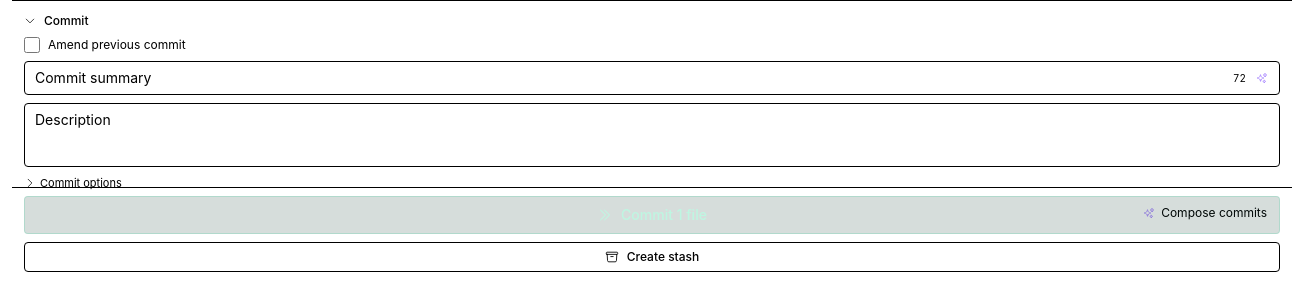
Test: CommitPanel › seeds amend fields from the current HEAD commit
Click the checkbox labelled "Amend previous commit" at [32, 45], box [24,37,40,53]
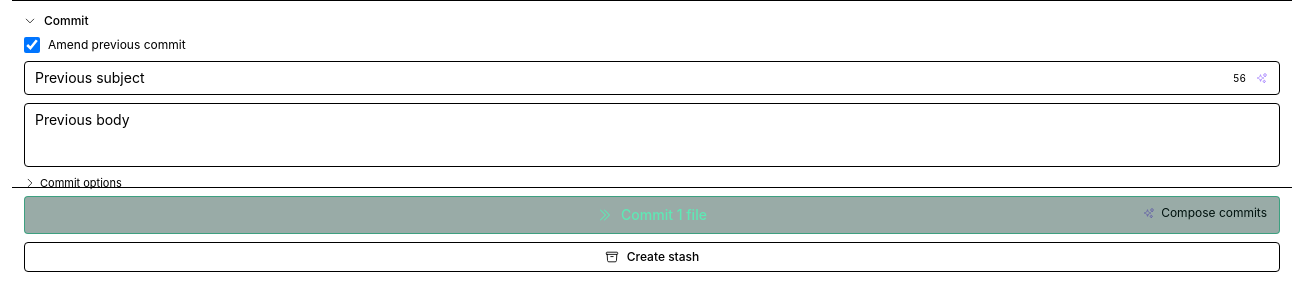
Expected: the field with placeholder "Commit summary" holds "Previous subject", [24,61,1280,95]
Expected: the text box with placeholder "Description" holds "Previous body", [24,103,1280,167]
